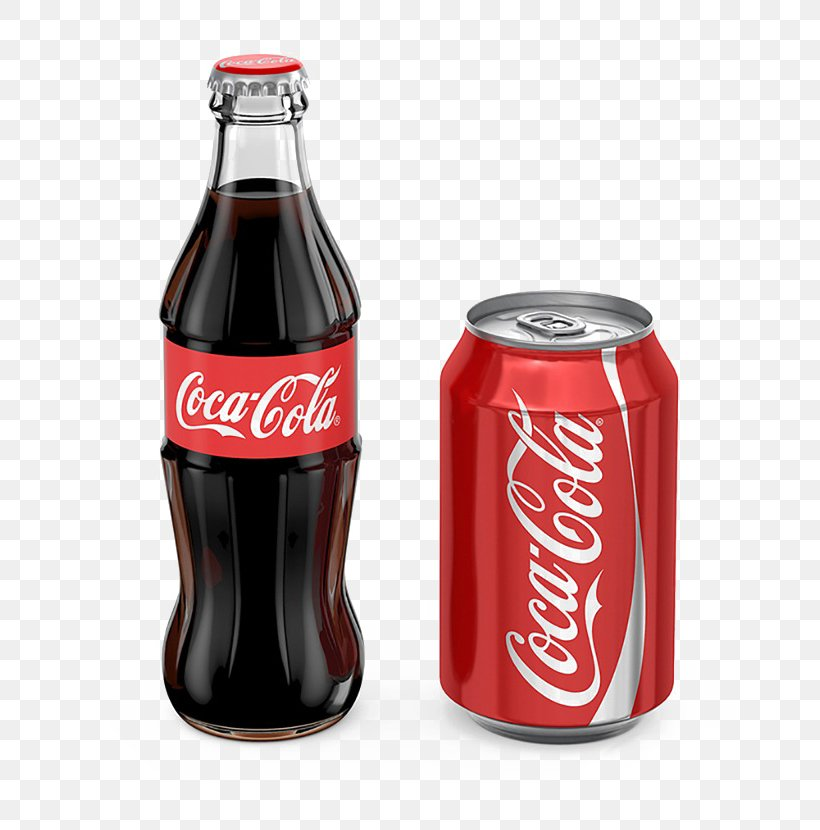coca_cola_bottle: (162, 53, 370, 742)
coca_cola_can: (436, 291, 679, 743)
